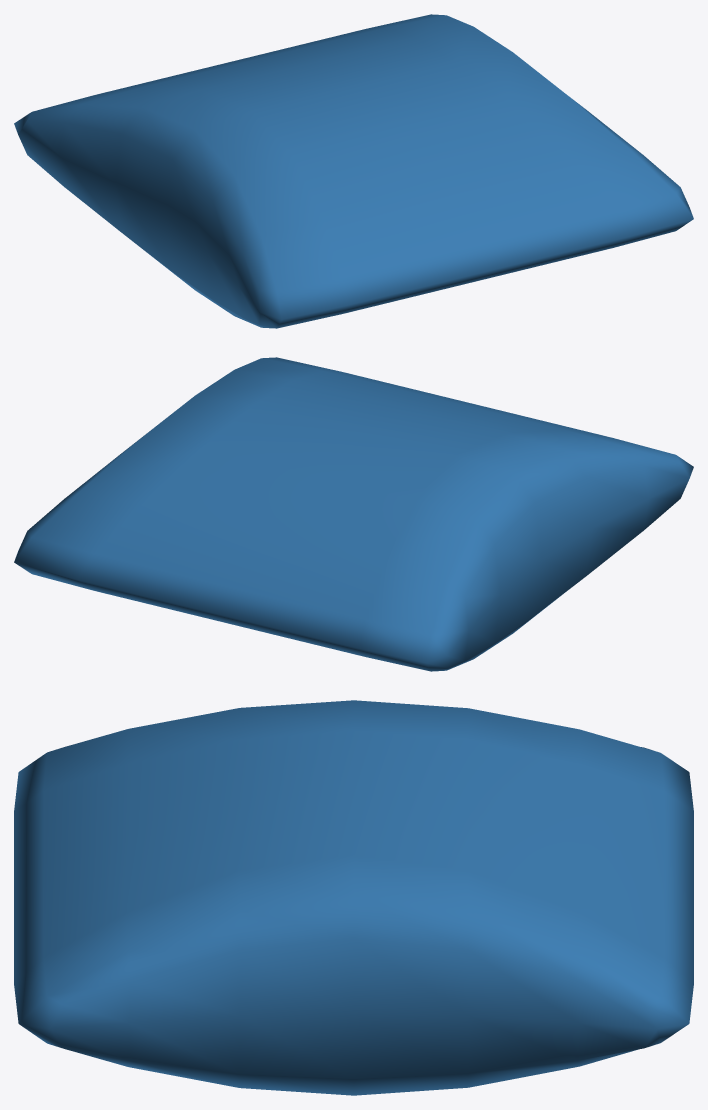
File: sugar.fbx
3 views of the same model, one above another, from view 1: azimuth 30°, elevation 25°; view 2: azimuth 150°, elevation 25°; view 3: azimuth 270°, elevation 25° (orthographic). The views are drawn at different scales.
Parts seen in each view (by area): view 1: Cube; view 2: Cube; view 3: Cube.
Boxes of the visible parts, x1,y1,x2,y2 form: Cube: (14, 14, 693, 328); Cube: (14, 357, 693, 671); Cube: (14, 700, 693, 1095).
Bounding box in the file's own units: 246 × 91.82 × 269.
